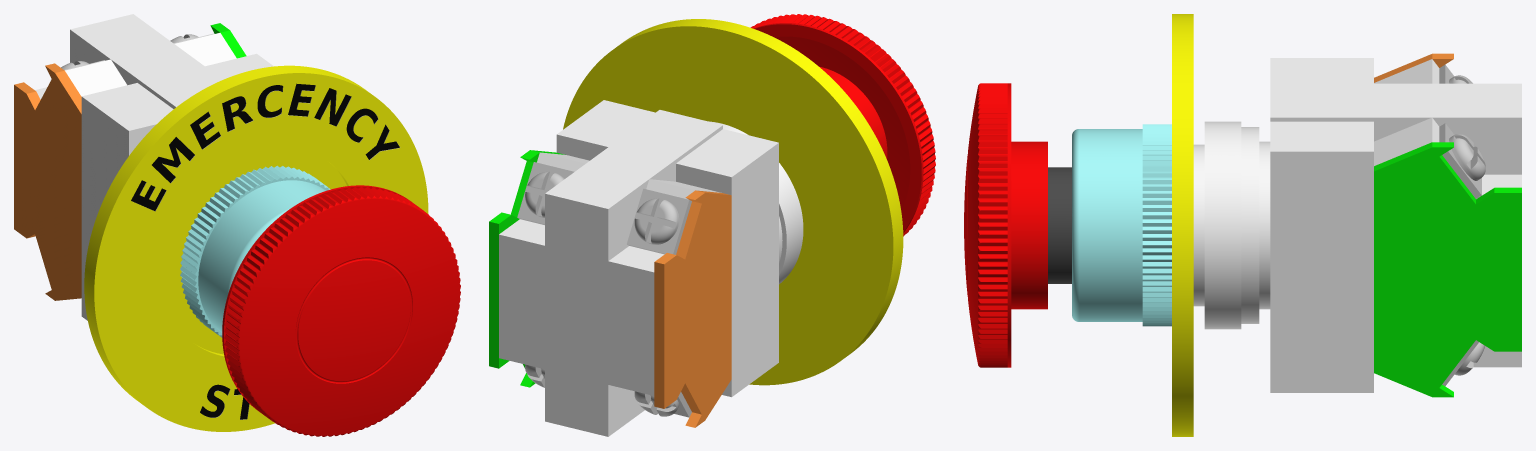
The model's file is fc_estop.glb.
3 views of the same model, side by side, from view 1: azimuth 30°, elevation 25°; view 2: azimuth 150°, elevation 25°; view 3: azimuth 270°, elevation 25° (orthographic). The views are drawn at different scales.
Parts seen in each view (by area): view 1: =>[0:1:1:2]; view 2: =>[0:1:1:2]; view 3: =>[0:1:1:2].
Part boxes in pixels (x1,y1,x2,y2): =>[0:1:1:2]: [14, 14, 460, 436]; =>[0:1:1:2]: [489, 14, 935, 436]; =>[0:1:1:2]: [964, 14, 1521, 436].
Size of the model in its own units: 0.058 by 0.058 by 0.0765.
